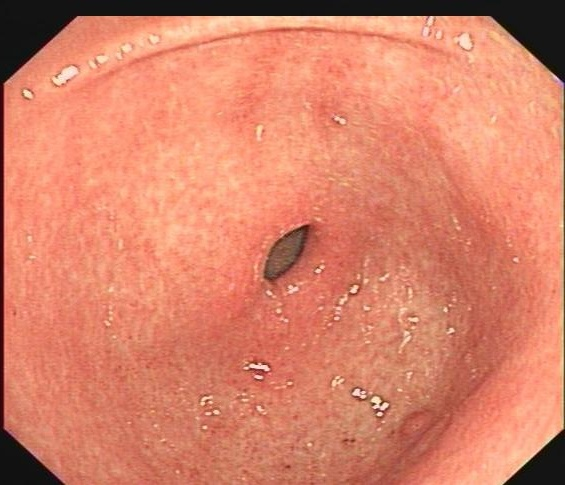Polyp: (387, 388, 459, 460)
